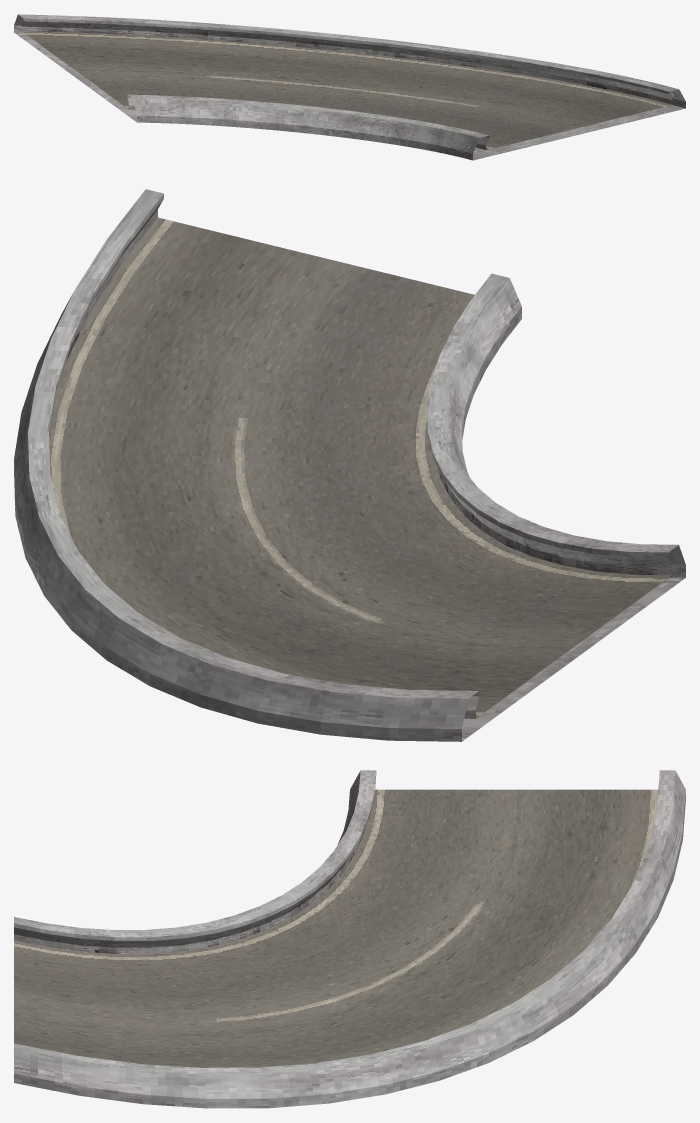
Rendered from road-Turn-BiSlopeDown-BiSlopeUp-Even-Left-Size2.glb.
3 renders of one model, top to bottom at view 1: azimuth 30°, elevation 25°; view 2: azimuth 150°, elevation 25°; view 3: azimuth 270°, elevation 25°, orthographic. The views are drawn at different scales.
Parts seen in each view (by area): view 1: road-Turn-BiSlopeDown-BiSlopeUp-Even-Left-Size2; view 2: road-Turn-BiSlopeDown-BiSlopeUp-Even-Left-Size2; view 3: road-Turn-BiSlopeDown-BiSlopeUp-Even-Left-Size2.
Boxes of the visible parts, <box> form: road-Turn-BiSlopeDown-BiSlopeUp-Even-Left-Size2: <box>14,14,685,160</box>; road-Turn-BiSlopeDown-BiSlopeUp-Even-Left-Size2: <box>14,189,685,741</box>; road-Turn-BiSlopeDown-BiSlopeUp-Even-Left-Size2: <box>14,770,685,1108</box>.
Bounding box in the file's own units: 2 × 0.3008 × 2.
Materials: 2 (2 with a texture image).
